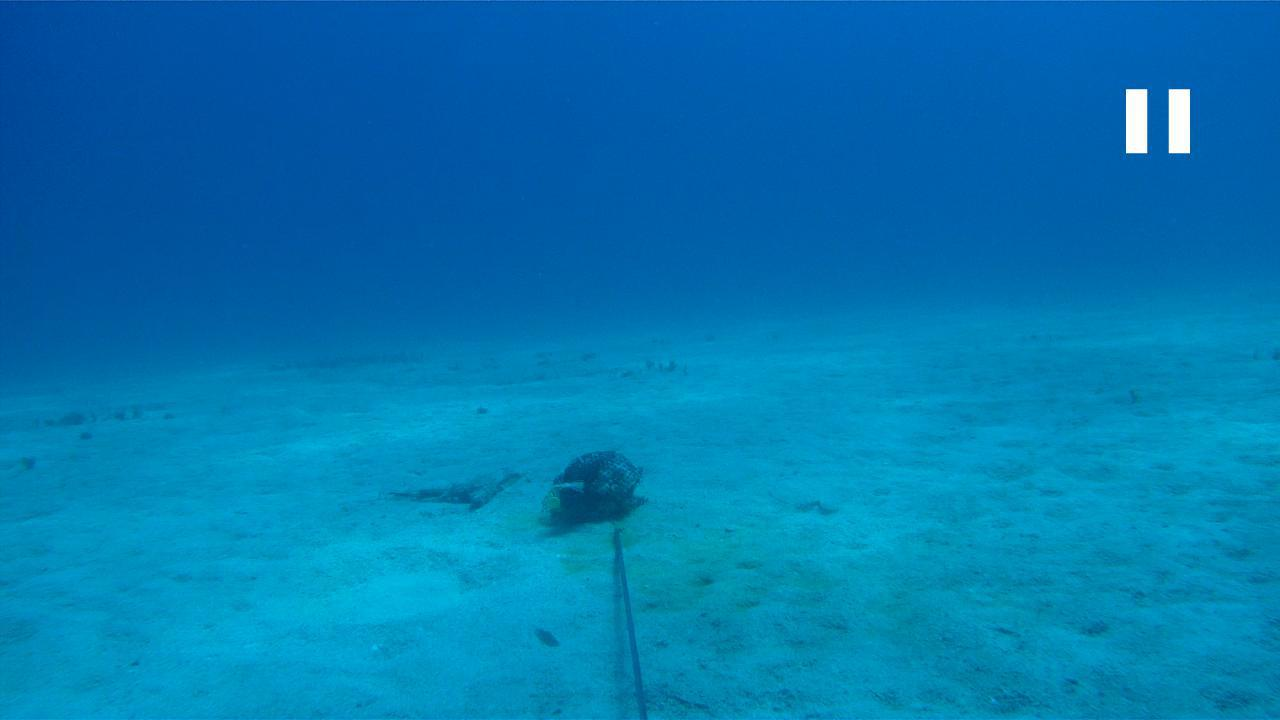bothus: (768, 468, 854, 514)
